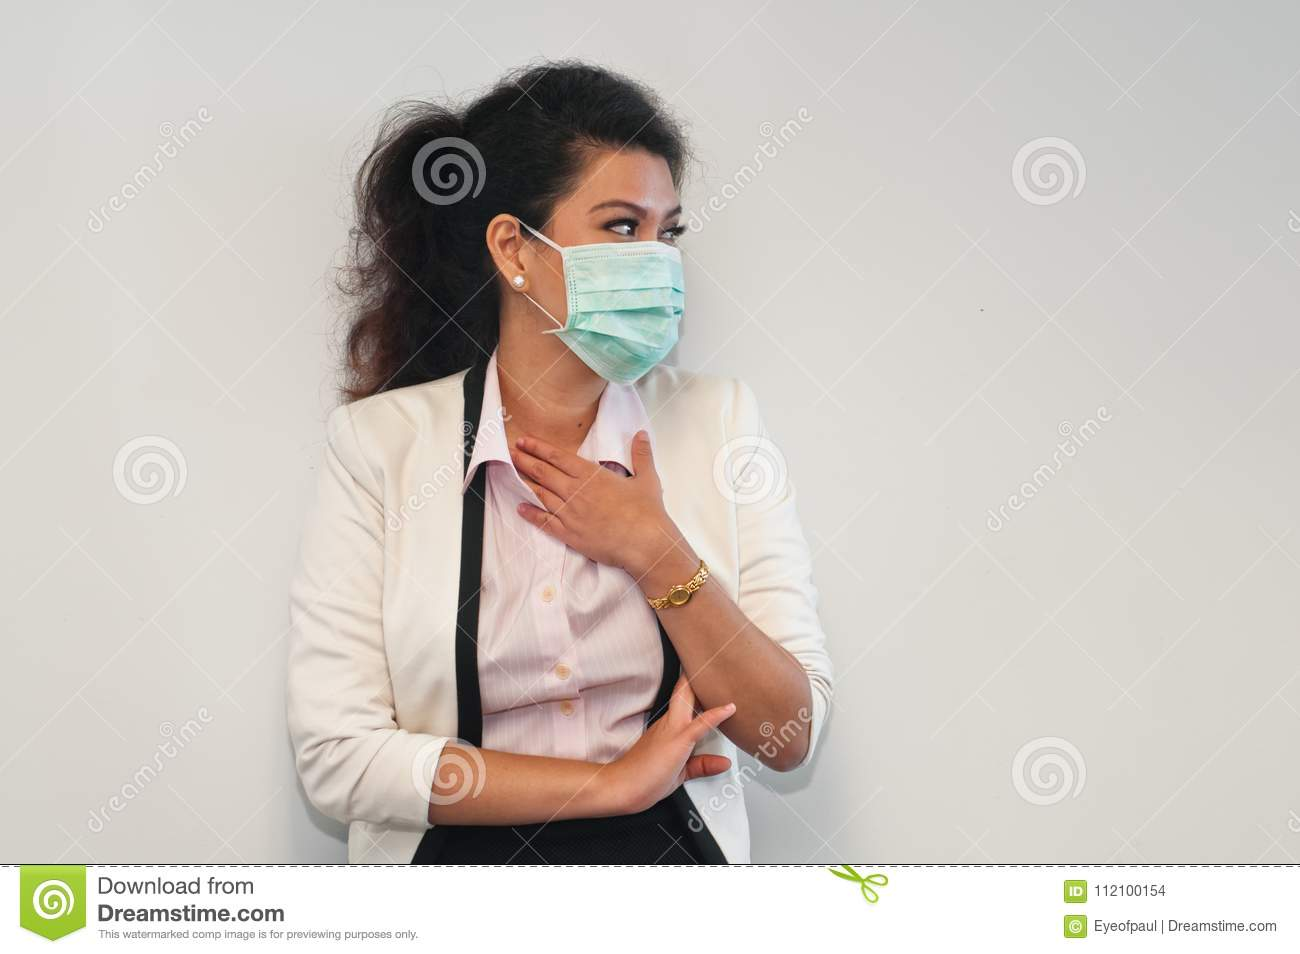mask: (548, 243, 683, 386)
